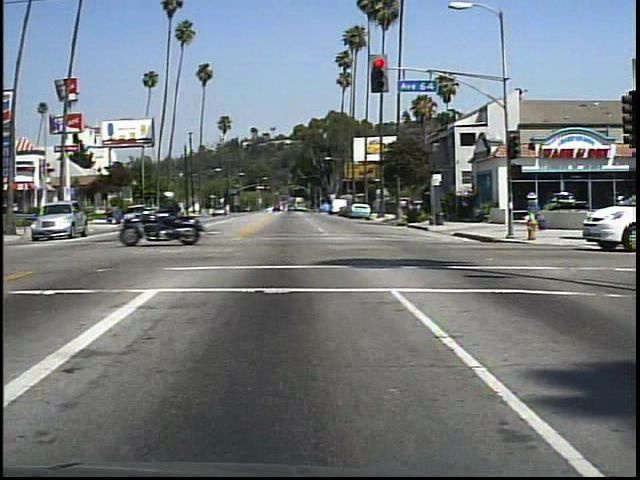person: (162, 185, 200, 244), (520, 186, 546, 217)
